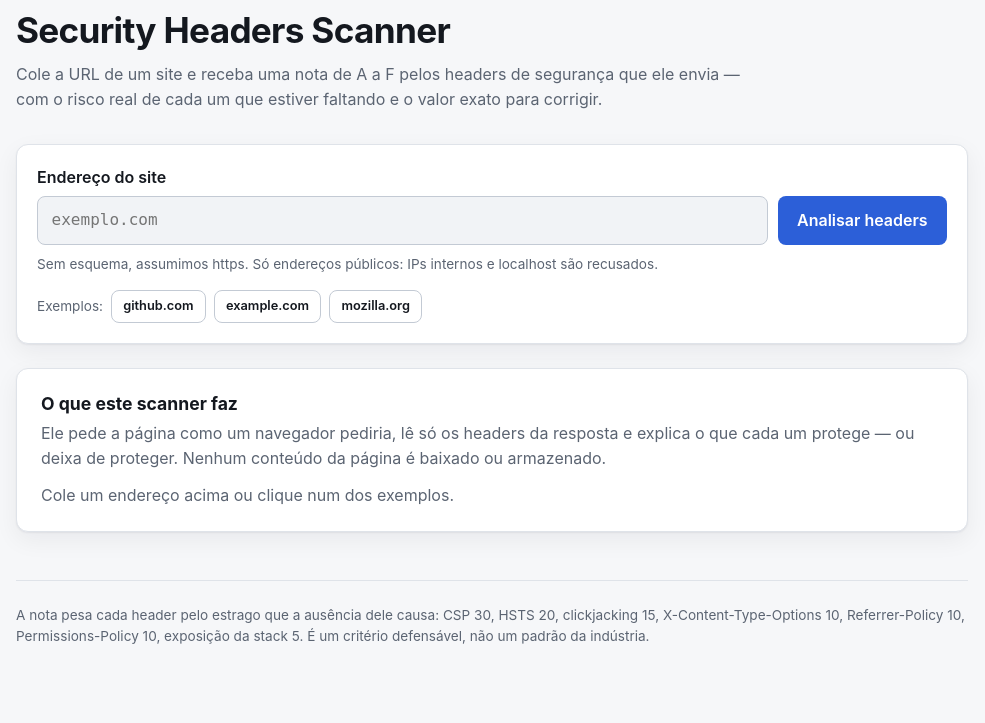
Scenario: App › surfaces a blocked target as an explained refusal, not a crash
The width and height of the screenshot is (985, 723).
Type "internal.example.com" into the field labelled "Endereço do site".
click(403, 221); type("internal.example.com")  # box left=37, top=196, right=768, bottom=245
Then press Enter
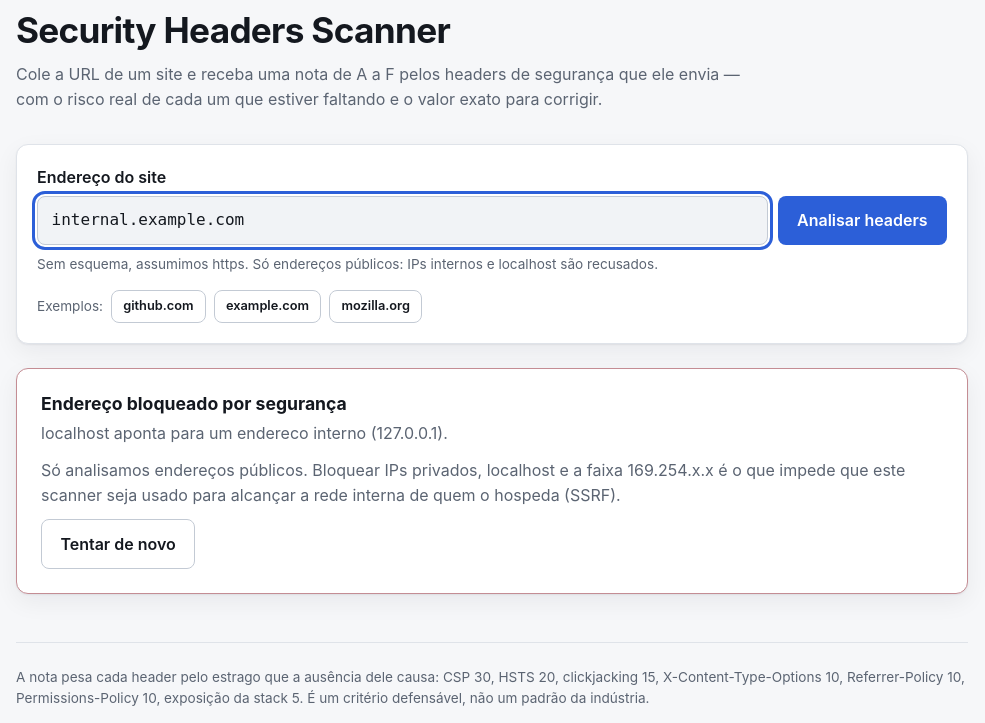
Expected: the heading "Endereço bloqueado por segurança" is shown, left=41, top=393, right=347, bottom=414
Expected: the text "SSRF" is shown, left=41, top=460, right=905, bottom=505
